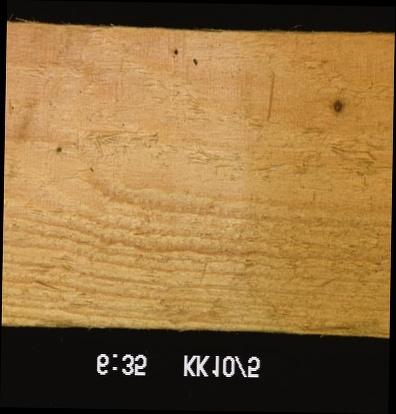small_knot: (84, 162, 100, 175), (51, 142, 64, 157), (168, 47, 181, 59), (187, 55, 200, 67)
